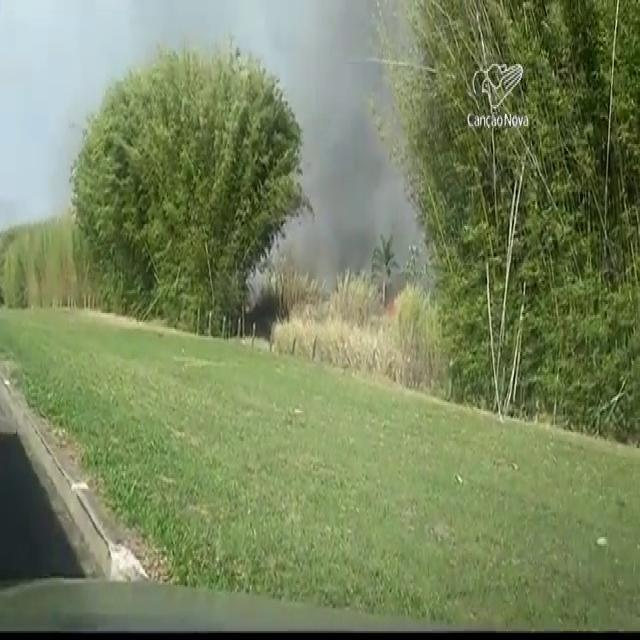Smoke: (294, 33, 410, 288)
